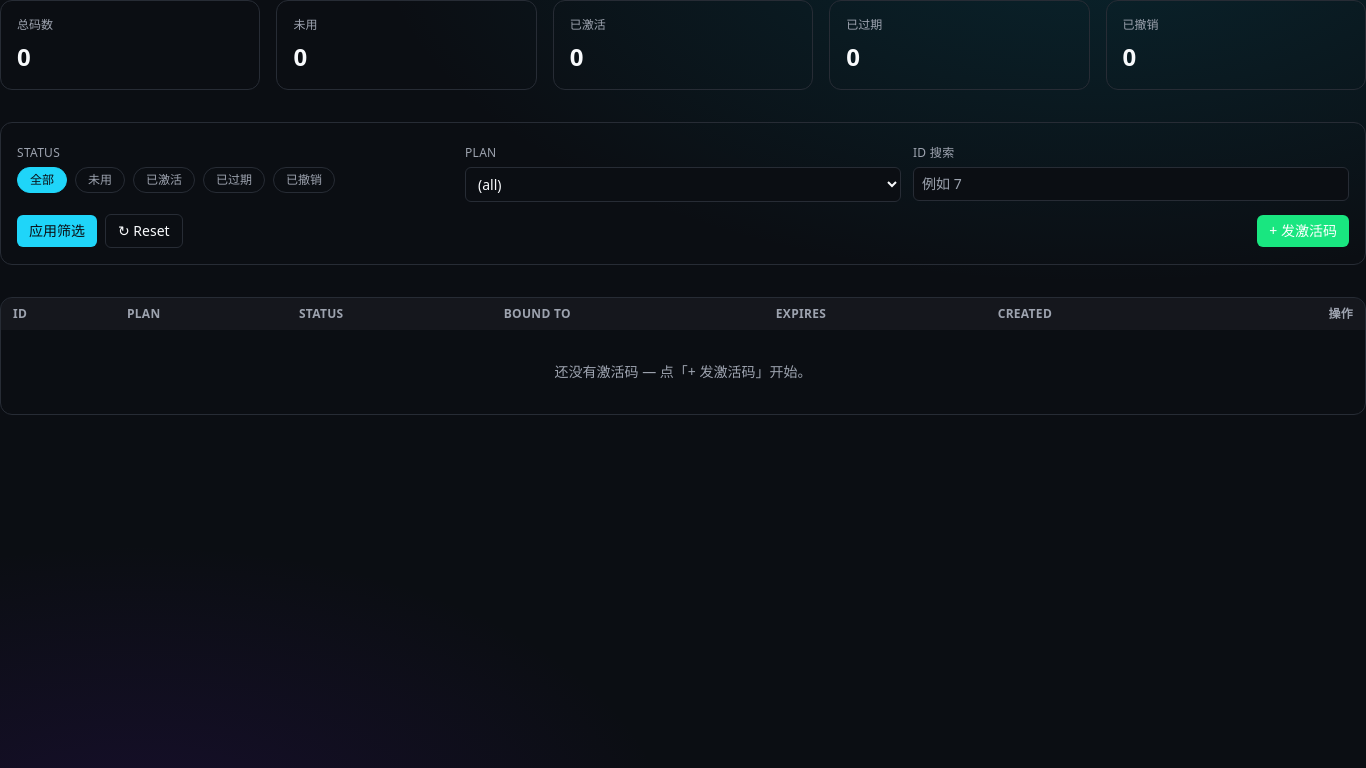
Test: ActivationCodesPanel — Phase 23 IM delivery › the issue modal defaults to send_im=true and the open_id input is empty
Click the button with test id "btn-issue".
click(1303, 231)  # box [1257,215,1349,247]
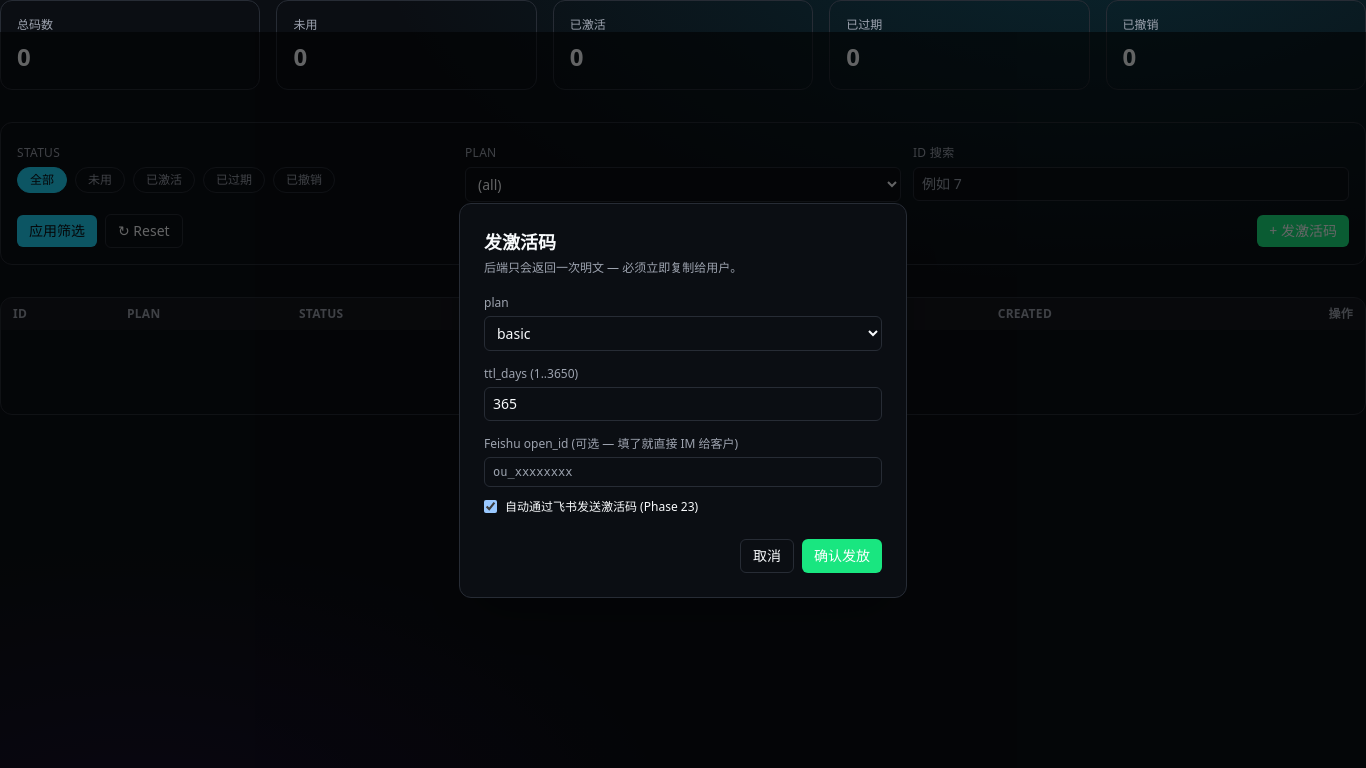
Expected: the dialog with test id "issue-modal" is shown
Expected: the checkbox with test id "issue-send-im" is checked, [484,500,497,513]
Expected: the field with test id "issue-feishu-open-id" is empty, [484,456,882,486]
